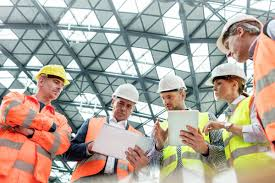helmet: (220, 12, 263, 32), (209, 66, 245, 81), (38, 65, 68, 82), (114, 83, 139, 102), (154, 77, 186, 91)
vest: (154, 117, 213, 181), (82, 118, 139, 180), (223, 108, 266, 172), (251, 45, 275, 116)
